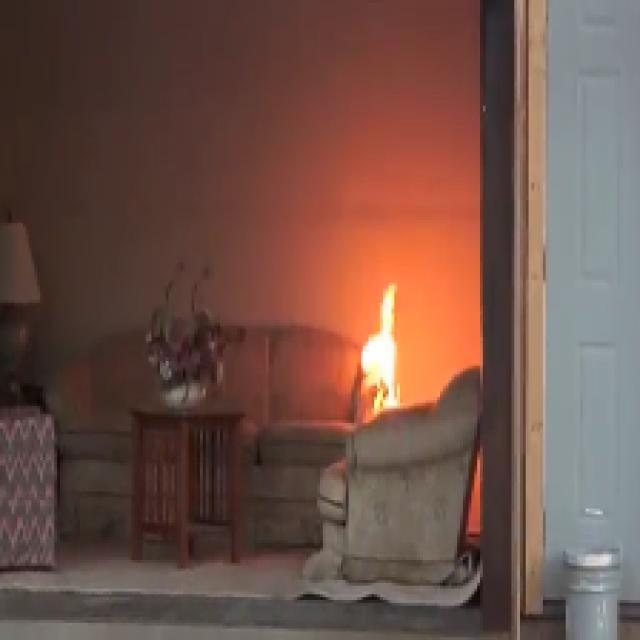Fire: (354, 279, 410, 410)
